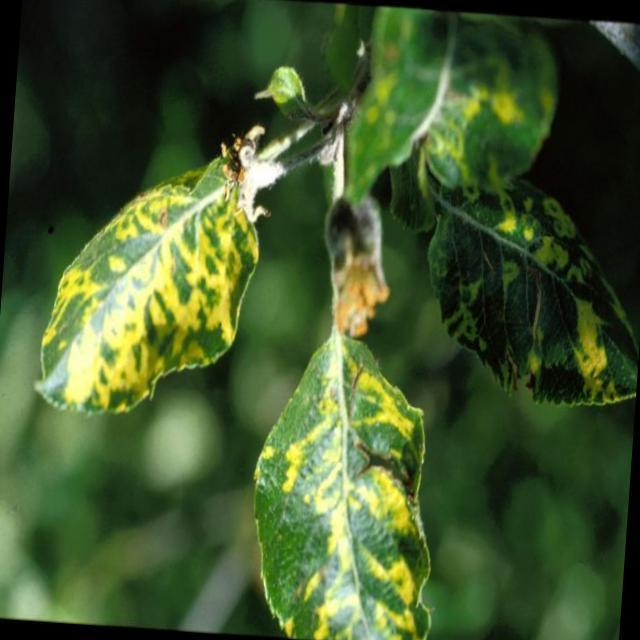Mosaic Virus: (235, 331, 458, 640), (30, 166, 252, 427), (414, 194, 640, 408)
